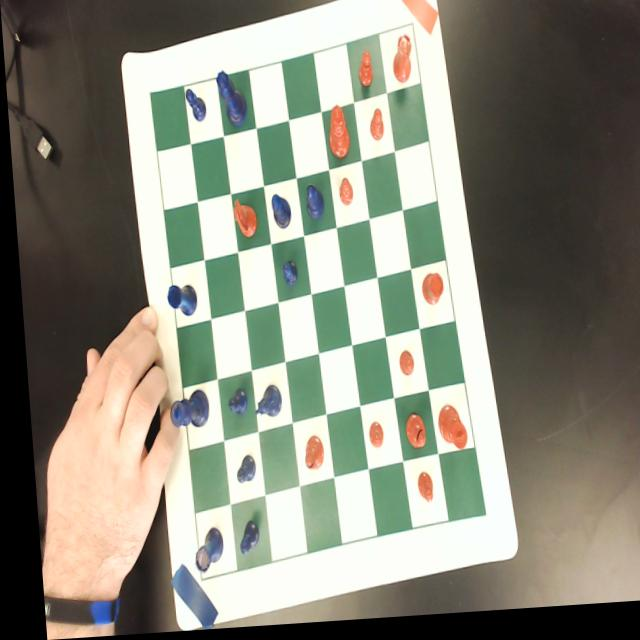B: (267, 196, 289, 233), (301, 188, 322, 223)
K: (162, 390, 205, 433)
N: (247, 387, 276, 423)
P: (230, 522, 252, 561), (183, 89, 205, 125), (228, 456, 249, 487), (220, 390, 242, 419), (277, 262, 295, 291)
Q: (213, 71, 247, 131)
R: (184, 528, 216, 576), (161, 285, 193, 320)
b: (296, 438, 318, 475), (398, 417, 420, 454)
k: (430, 409, 461, 456)
n: (228, 199, 255, 243)
p: (355, 53, 373, 94), (408, 475, 426, 508), (366, 112, 382, 146), (335, 181, 350, 212), (361, 424, 377, 453), (393, 353, 408, 383)
q: (324, 108, 349, 164)
r: (388, 36, 413, 91), (416, 277, 440, 313)
